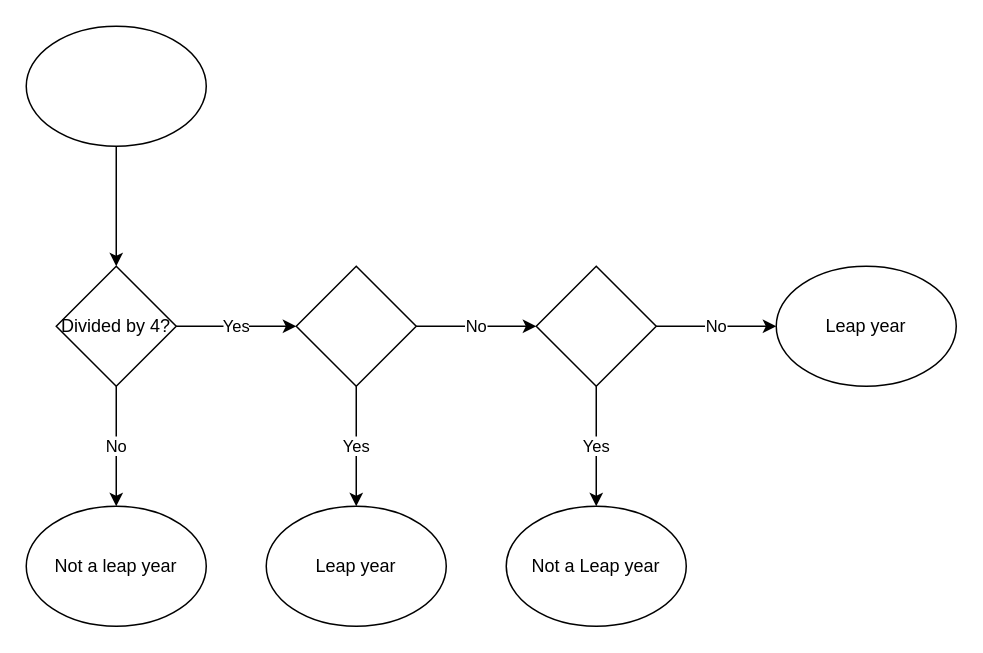
Some shapes in this 983 by 653 pixel diagram are drawn without their labels. Here are the shapes that lost their labels. From the top down, the box of each, then its label:
(25, 25, 206, 146): Input
(295, 265, 416, 386): Divided by 400 and 100
(535, 265, 656, 386): Divided by 100 and not by 400
